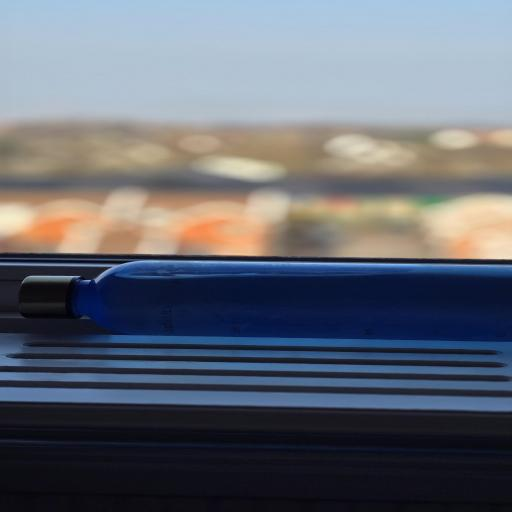bottle: (5, 233, 512, 350)
